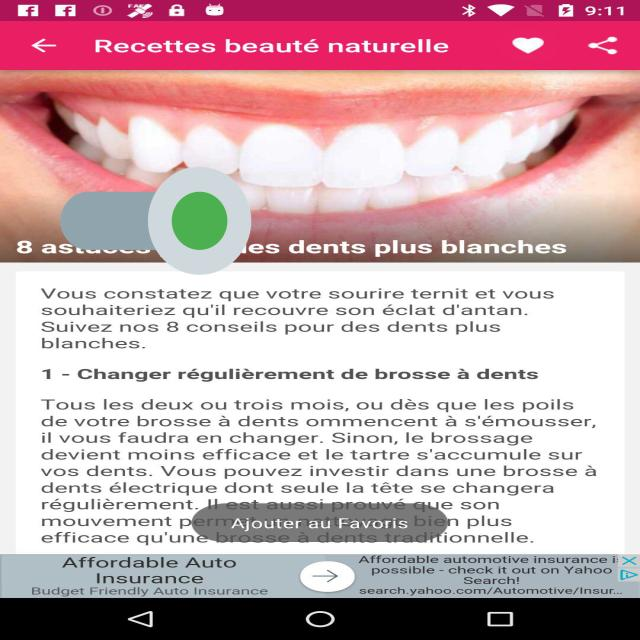social proof: (60, 121, 252, 321)
